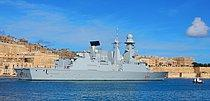MIL_Ship: (14, 32, 169, 83)
